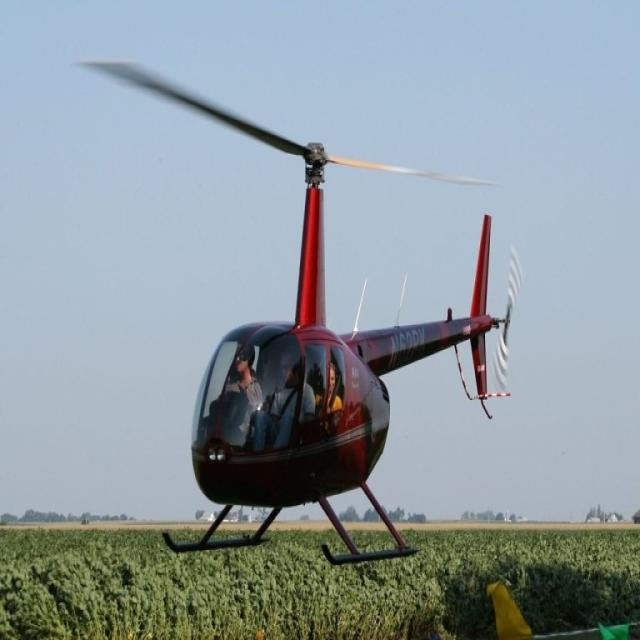CIV_HELO: (160, 138, 498, 572)
